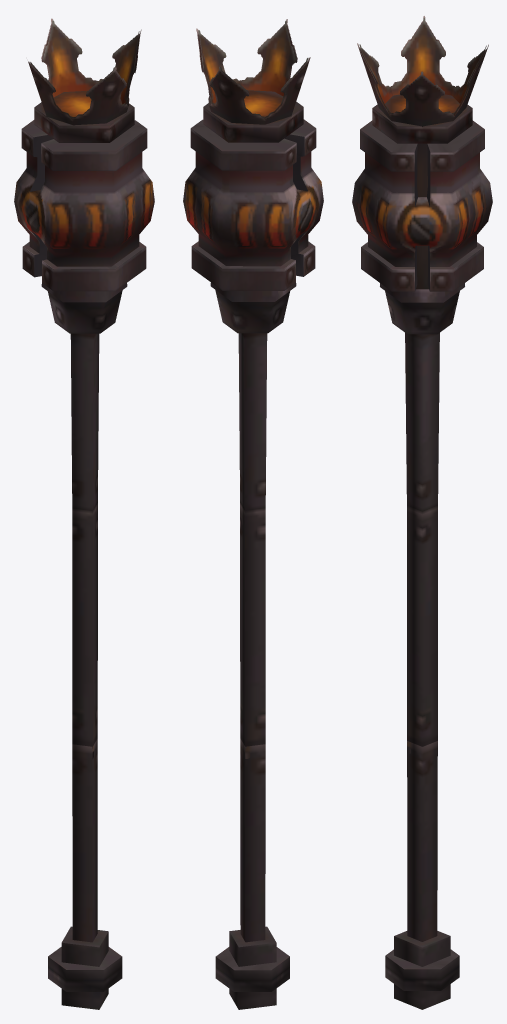
The model's file is staff16_1f2189ad.glb.
The picture shows the model from 3 angles, left to right: view 1: azimuth 30°, elevation 25°; view 2: azimuth 150°, elevation 25°; view 3: azimuth 270°, elevation 25°; orthographic projection.
Bounding box in the file's own units: 0.3816 × 3.02 × 0.4026.
1 material, 1 textured.
